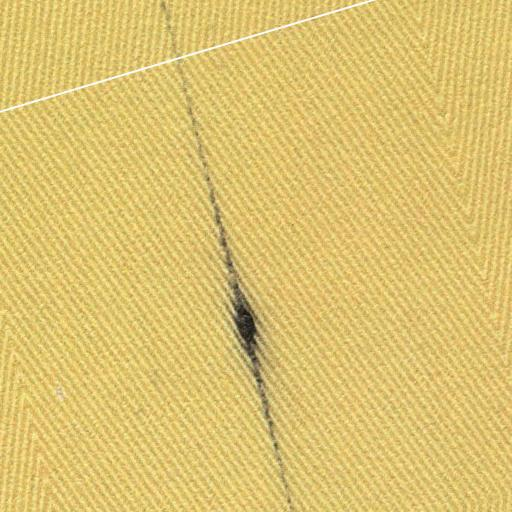stain: (158, 4, 303, 512)
